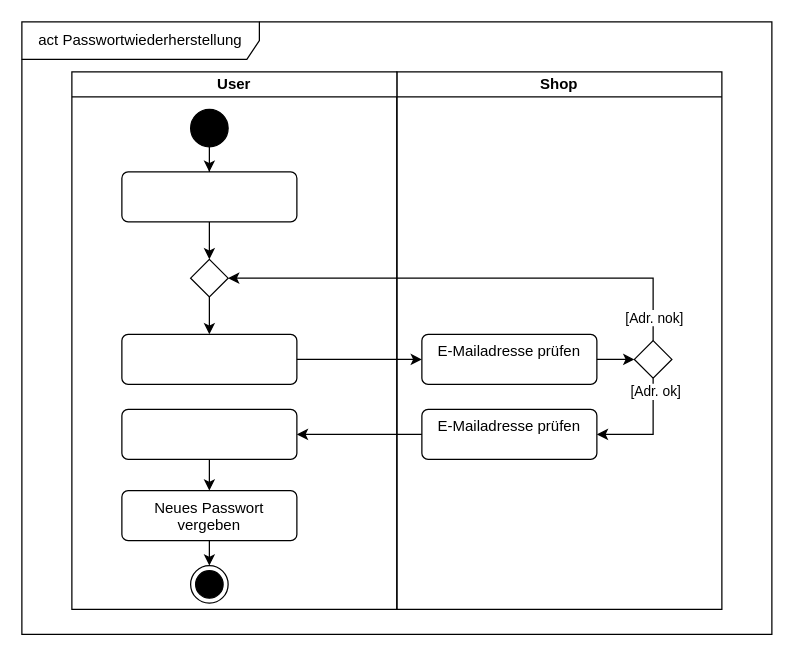
This 794x656 diagram has some shape labels left out. The centre of each missing label's shape, as x and y in pixels:
E-Mailadresse eingeben: (x=209, y=358)
Link anklicken: (x=209, y=433)
Passwort-Vergessen Button drücken: (x=209, y=196)
